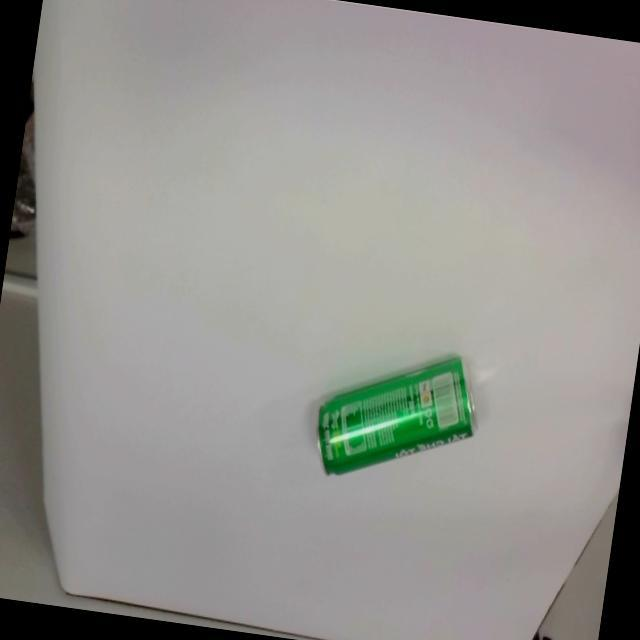debris: (308, 336, 488, 495)
